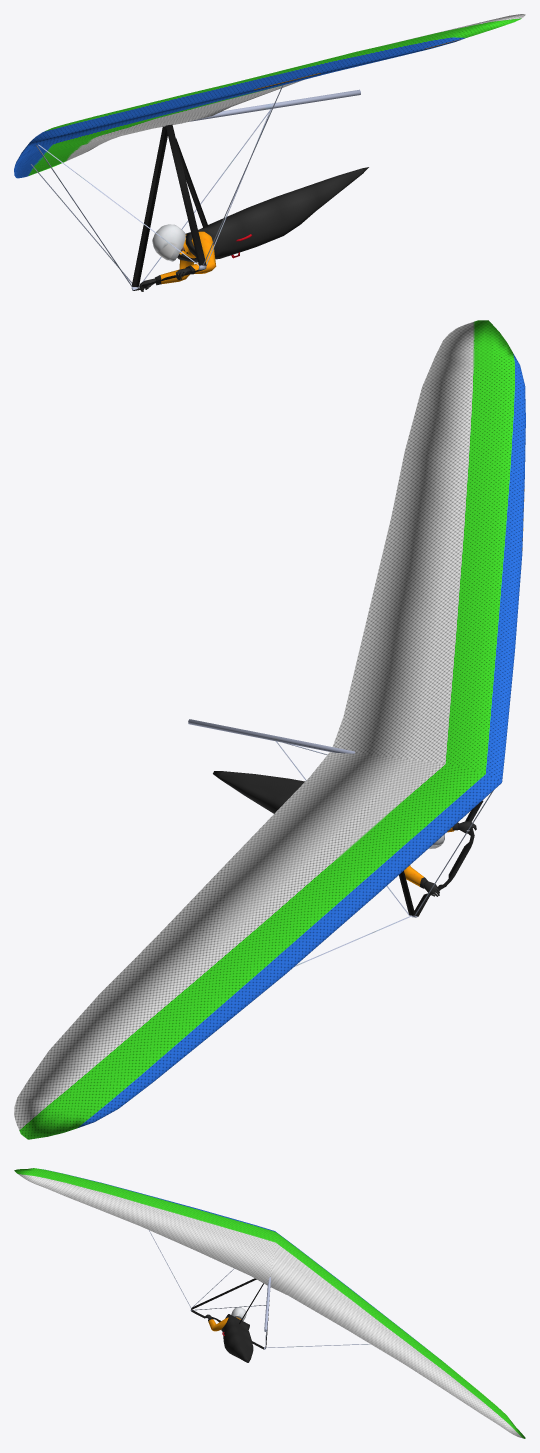
Rendered from hang-glider-green-thermal-cbj_LOD01.gltf.
The picture shows the model from 3 angles, top to bottom: view 1: azimuth 30°, elevation 25°; view 2: azimuth 150°, elevation 25°; view 3: azimuth 270°, elevation 25°; orthographic projection. The views are drawn at different scales.
Parts seen in each view (by area): view 1: hang-glider00; view 2: hang-glider00; view 3: hang-glider00.
Boxes of the visible parts, <box> form: hang-glider00: <box>14,14,525,291</box>; hang-glider00: <box>14,320,525,1139</box>; hang-glider00: <box>14,1168,525,1438</box>.
Size of the model in its own units: 3.49 by 5.03 by 8.71.
